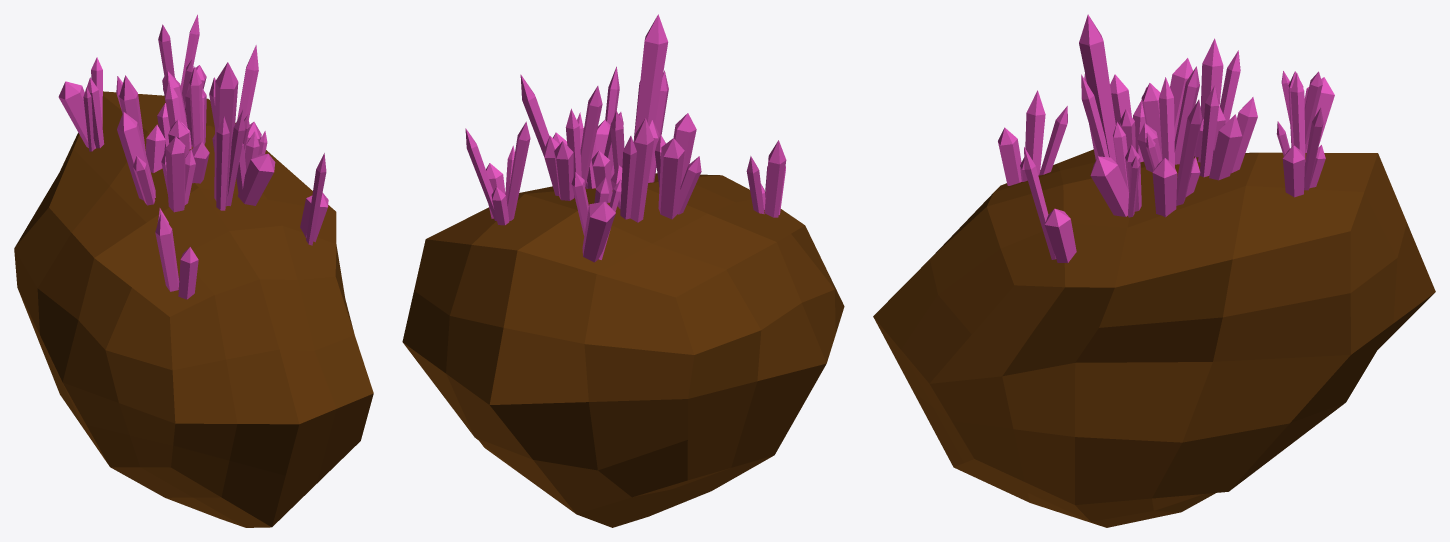
The model's file is asteroid_crystal_2_1.fbx.
3 renders of one model, left to right at view 1: azimuth 30°, elevation 25°; view 2: azimuth 150°, elevation 25°; view 3: azimuth 270°, elevation 25°, orthographic. The views are drawn at different scales.
Visible parts, largest first — view 1: crystal_2_1; view 2: crystal_2_1; view 3: crystal_2_1.
Part boxes in pixels (x1=…): crystal_2_1: x1=14, y1=14, x2=373, y2=527; crystal_2_1: x1=402, y1=14, x2=844, y2=527; crystal_2_1: x1=873, y1=14, x2=1435, y2=527.
Bounding box in the file's own units: 845 × 1289 × 1280.
